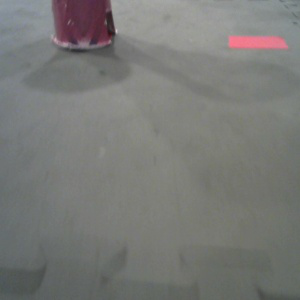middle: (49, 1, 119, 51)
